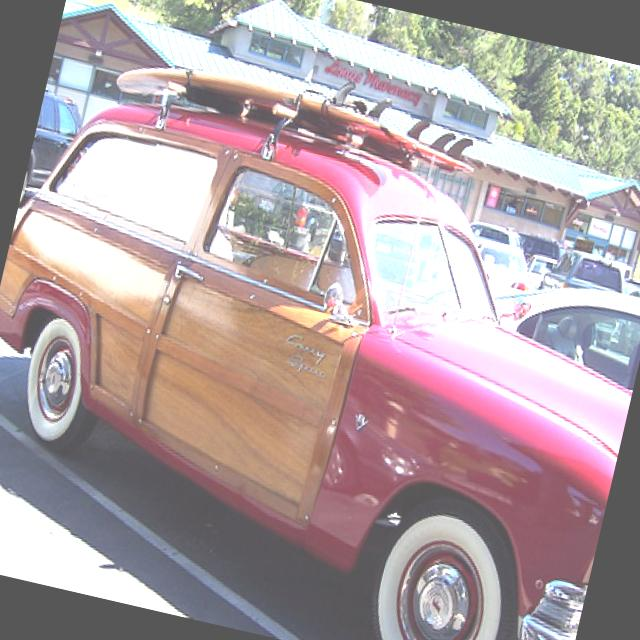Vehicle: (0, 56, 640, 640), (477, 265, 640, 420), (18, 74, 90, 218), (540, 243, 630, 310), (470, 238, 540, 290), (464, 217, 527, 256), (519, 252, 558, 292)
